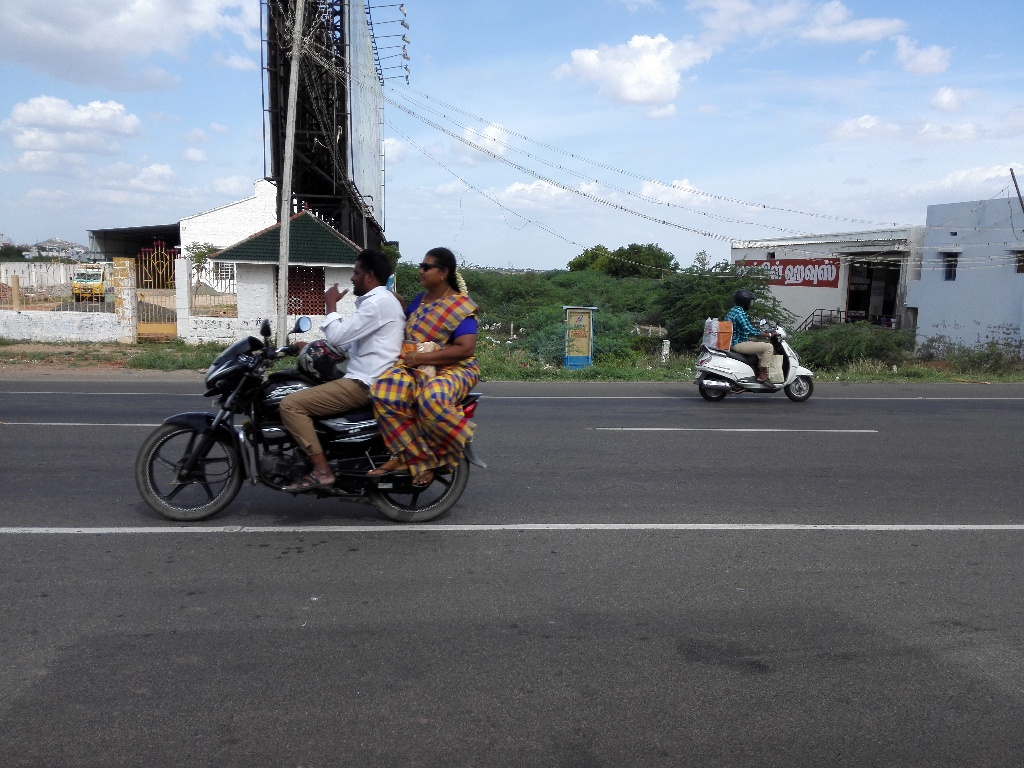biker: (113, 202, 520, 540), (683, 262, 832, 416)
helmet: (726, 285, 763, 318)
nohelmet: (412, 238, 471, 305), (343, 242, 402, 309)
